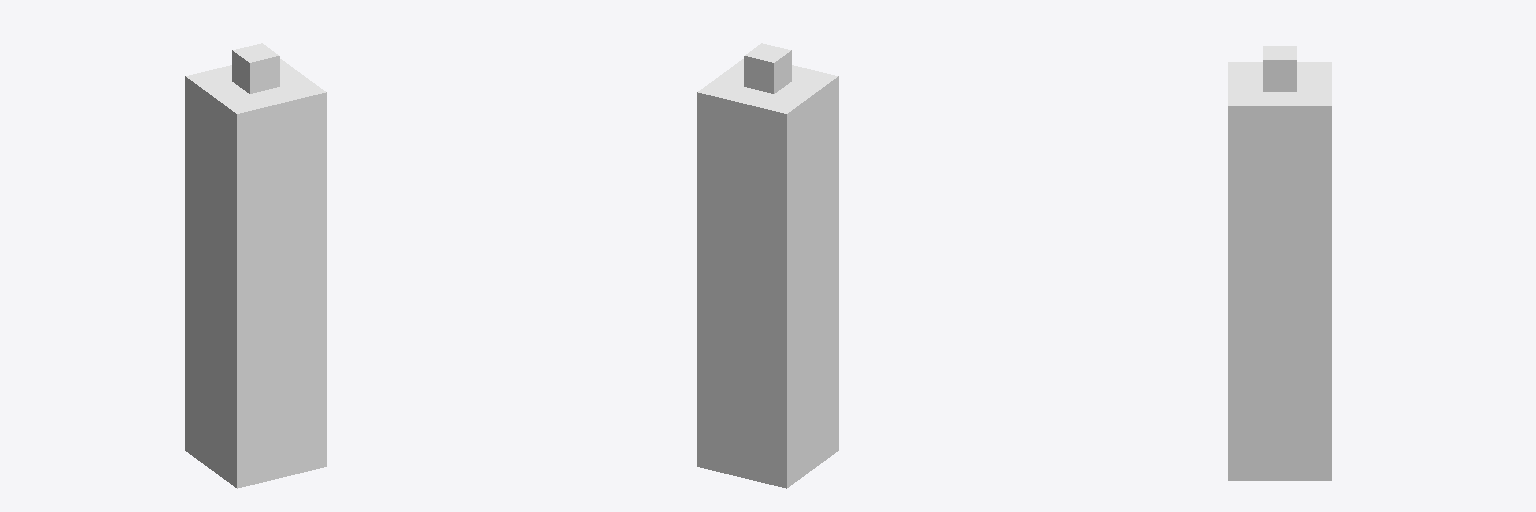
The model's file is DynamiteSingle.obj.
3 renders of one model, left to right at view 1: azimuth 30°, elevation 25°; view 2: azimuth 150°, elevation 25°; view 3: azimuth 270°, elevation 25°, orthographic.
Parts seen in each view (by area): view 1: object 1; view 2: object 1; view 3: object 1.
Part boxes in pixels (x1,y1,x2,y2): object 1: (185,43,326,488); object 1: (697,43,838,488); object 1: (1228,46,1331,480).
Size of the model in its own units: 0.3 by 1.3 by 0.3.